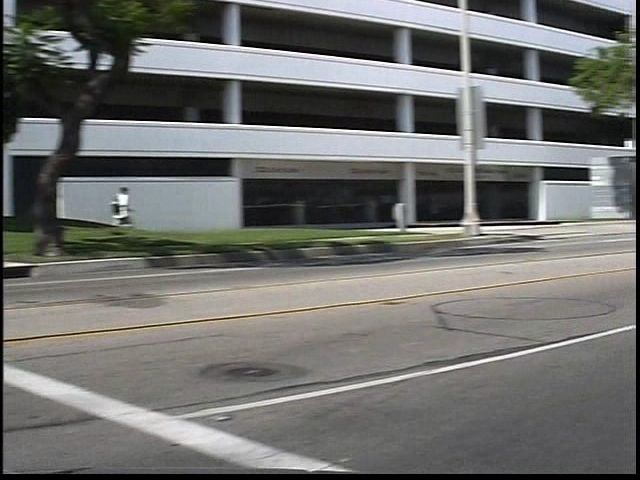person: (130, 178, 157, 247)
